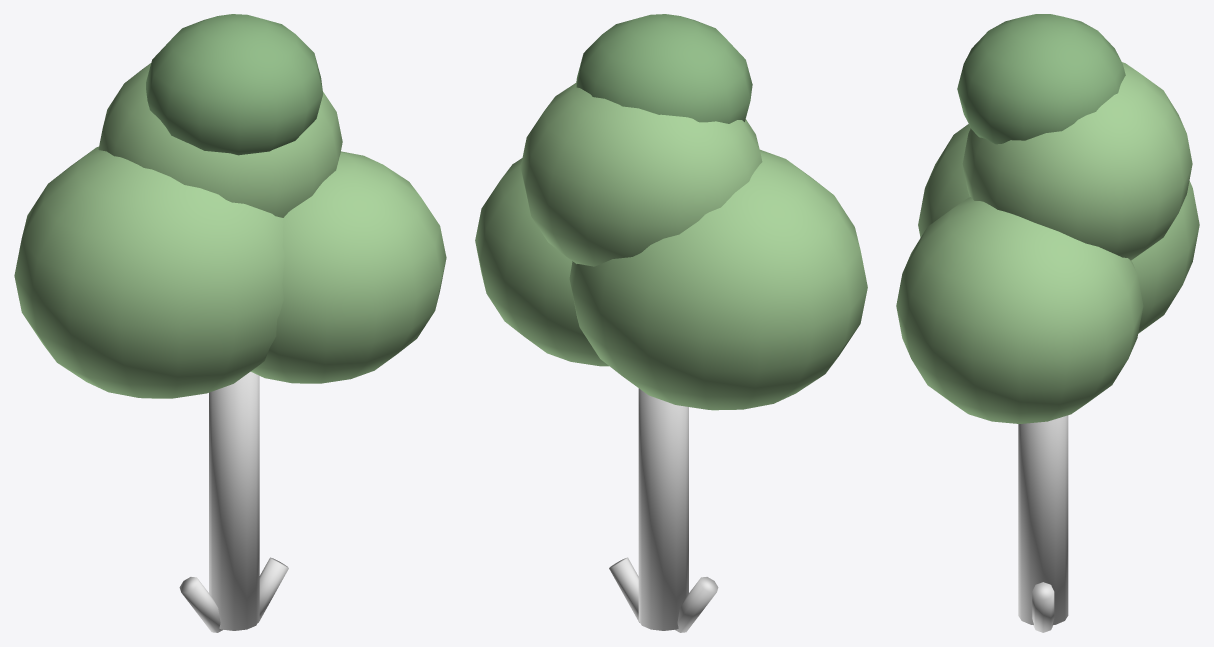
File: tree.fbx
3 views of the same model, side by side, from view 1: azimuth 30°, elevation 25°; view 2: azimuth 150°, elevation 25°; view 3: azimuth 270°, elevation 25° (orthographic).
Visible parts, largest first — view 1: EN_tree; view 2: EN_tree; view 3: EN_tree.
Boxes of the visible parts, x1=… form: EN_tree: x1=14, y1=14, x2=446, y2=632; EN_tree: x1=475, y1=14, x2=867, y2=632; EN_tree: x1=896, y1=14, x2=1199, y2=632.
Size of the model in its own units: 279 by 423 by 194.
